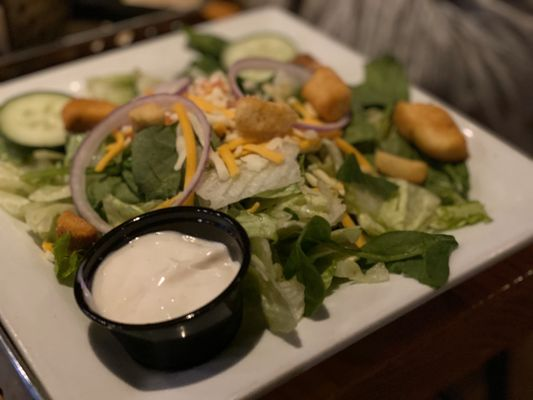sushi: (73, 206, 250, 373)
